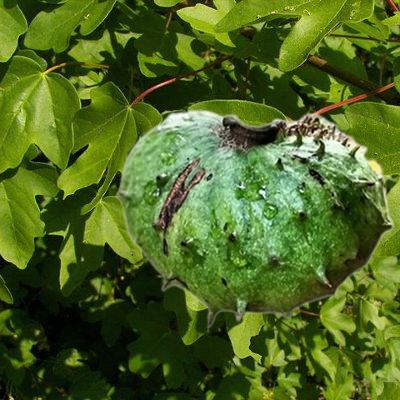guyabano: (115, 109, 393, 328)
